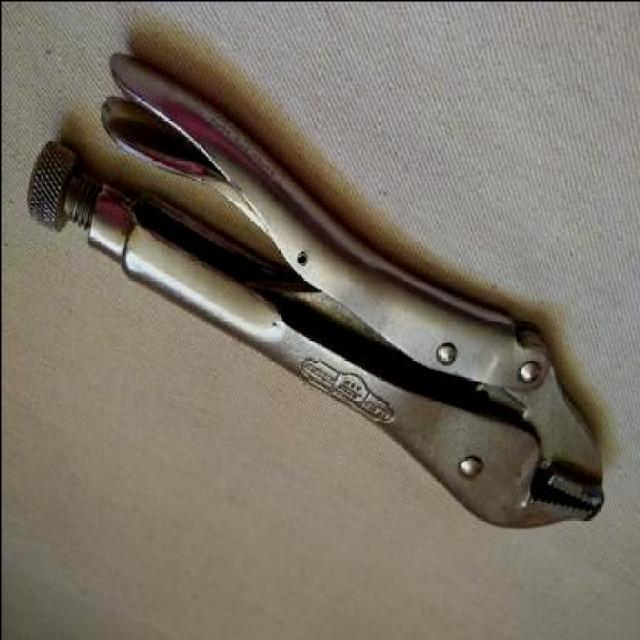pliers: (26, 55, 612, 532)
